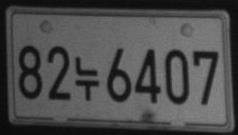0: (165, 49, 189, 105)
2: (47, 45, 71, 100)
4: (134, 48, 161, 104)
6: (106, 47, 132, 102)
7: (192, 49, 219, 105)
8: (17, 44, 42, 99)
누: (74, 56, 99, 101)
